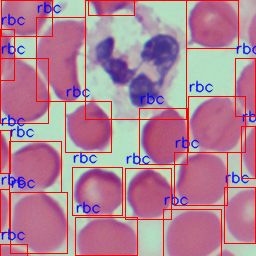rbc: (36, 17, 85, 101), (10, 192, 67, 253), (188, 96, 245, 152), (0, 58, 48, 123), (174, 152, 227, 205), (163, 209, 221, 256), (139, 108, 187, 164), (9, 141, 61, 192), (186, 0, 238, 48), (72, 167, 122, 215), (75, 217, 137, 255), (125, 168, 171, 219), (65, 101, 111, 152), (1, 0, 52, 36), (224, 187, 255, 243), (235, 58, 255, 116), (241, 126, 255, 178), (0, 29, 14, 80), (88, 0, 134, 15), (0, 130, 10, 173), (0, 189, 9, 232), (0, 244, 27, 256)
wbc: (85, 0, 186, 119)
